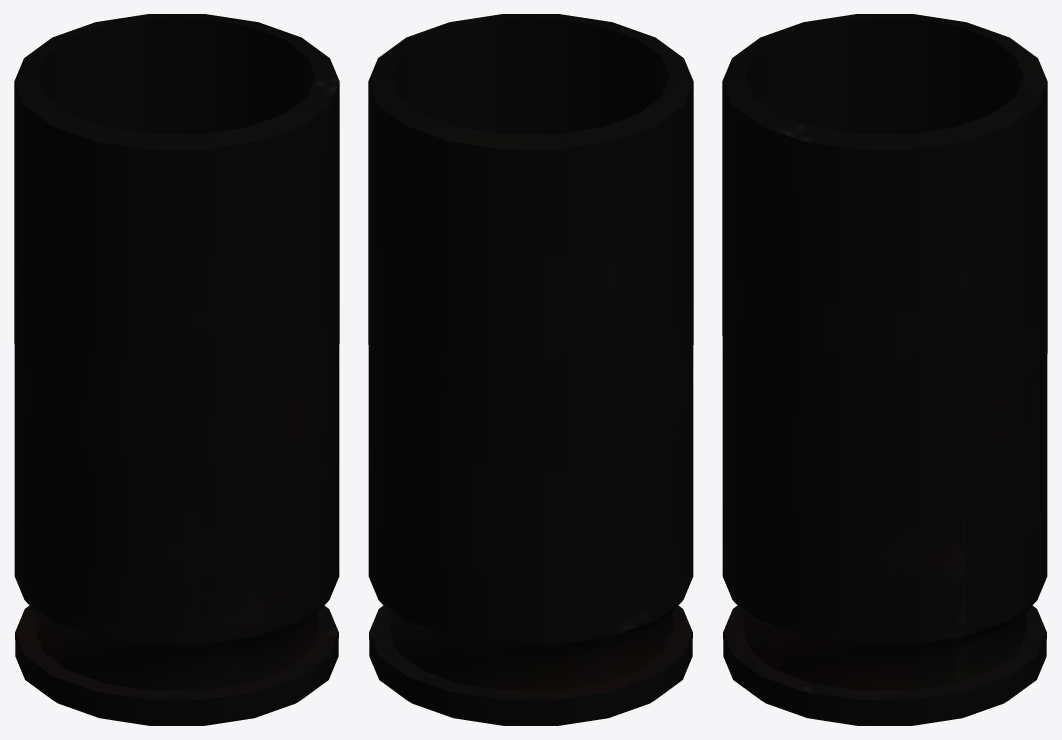
File: 9x19_explosive_casing.glb
3 views of the same model, side by side, from view 1: azimuth 30°, elevation 25°; view 2: azimuth 150°, elevation 25°; view 3: azimuth 270°, elevation 25° (orthographic).
Parts seen in each view (by area): view 1: 9x19_explosive_casing; view 2: 9x19_explosive_casing; view 3: 9x19_explosive_casing.
Boxes of the visible parts, x1,y1,x2,y2 form: 9x19_explosive_casing: [14, 14, 339, 725]; 9x19_explosive_casing: [368, 14, 693, 725]; 9x19_explosive_casing: [722, 14, 1047, 725].
Bounding box in the file's own units: 0.0136 × 0.0274 × 0.0138.
1 material, 1 textured.
